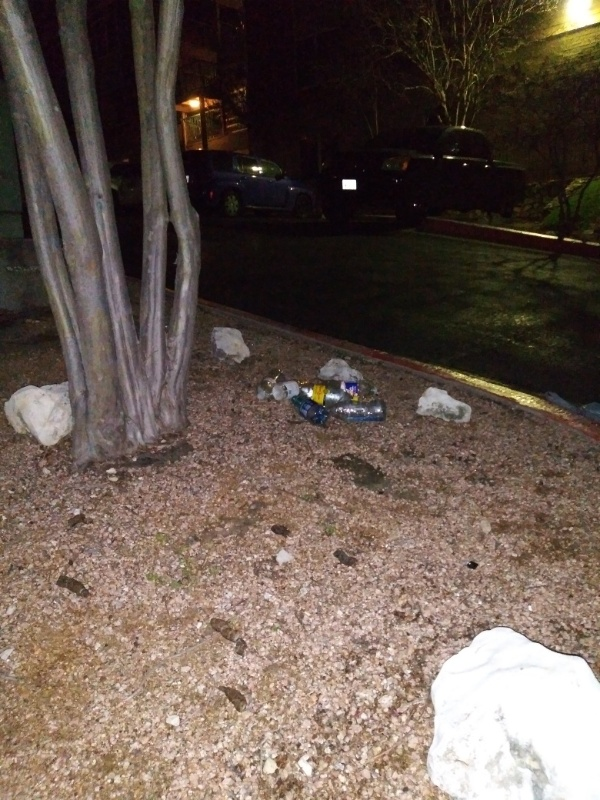bottle: (295, 383, 362, 407), (318, 397, 390, 419), (289, 393, 331, 428), (253, 365, 288, 403), (324, 378, 371, 401)
